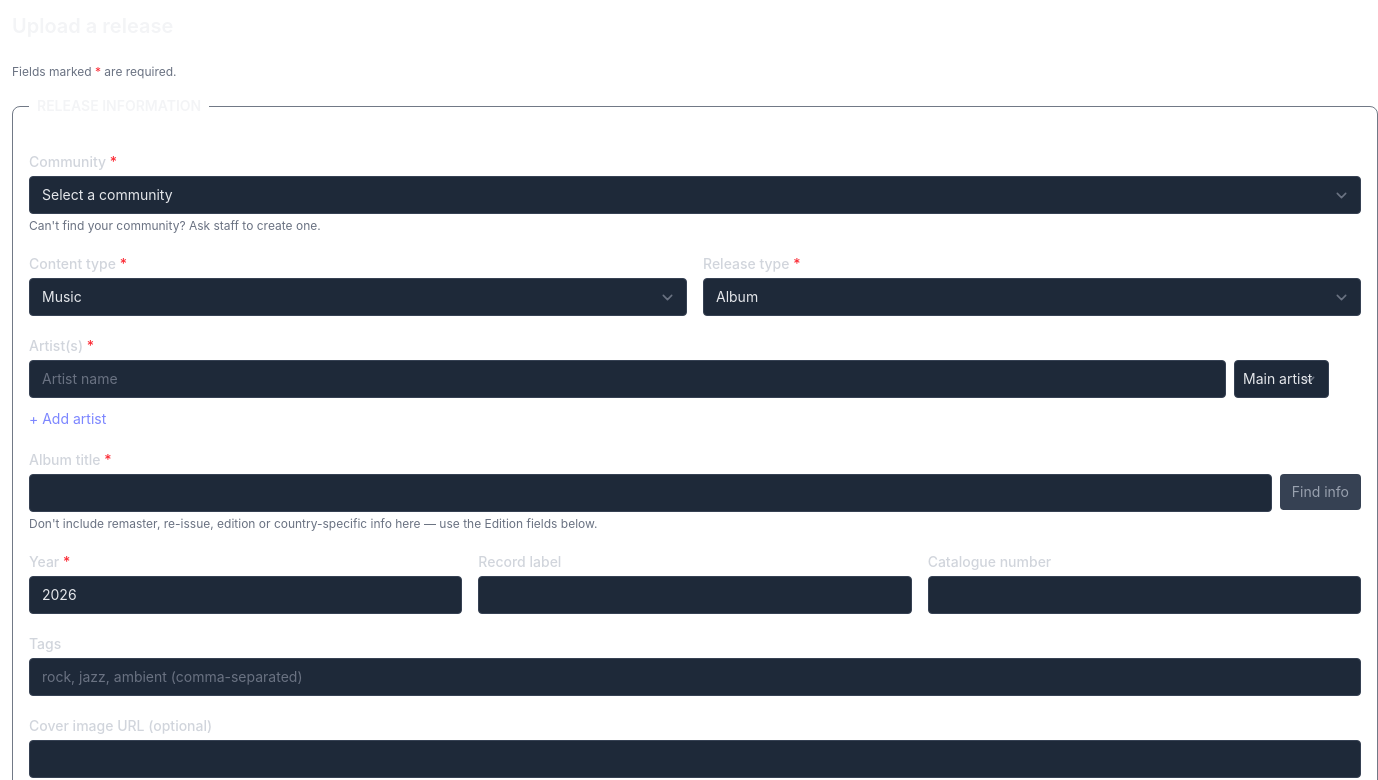
it: ContributeForm › can remove a collaborator row (not the first)
This screenshot has width=1378, height=780.
Step 1. Click the button "+ Add artist" → x=68, y=419, box [29,409,106,429]
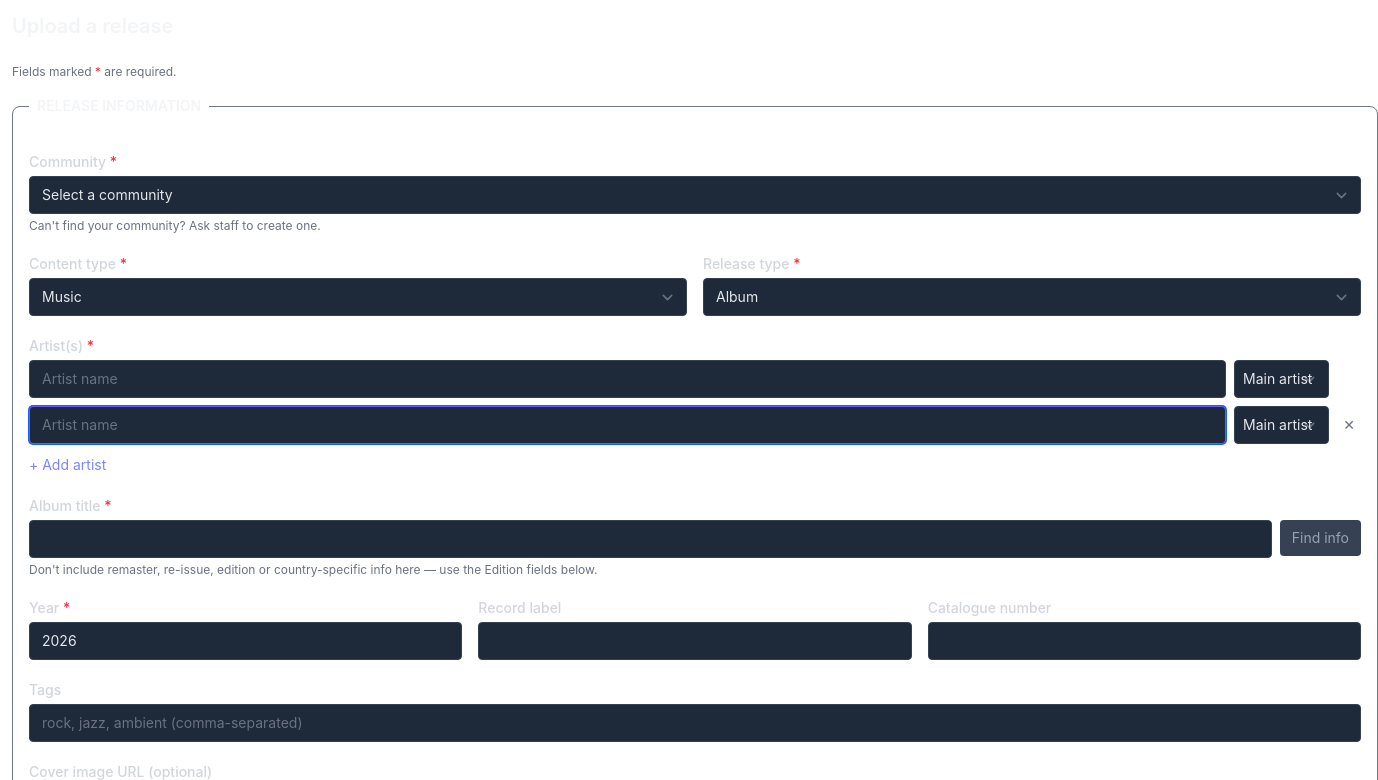
Step 2. Click the button named "remove artist 2" → x=1349, y=425, box [1337,415,1361,435]
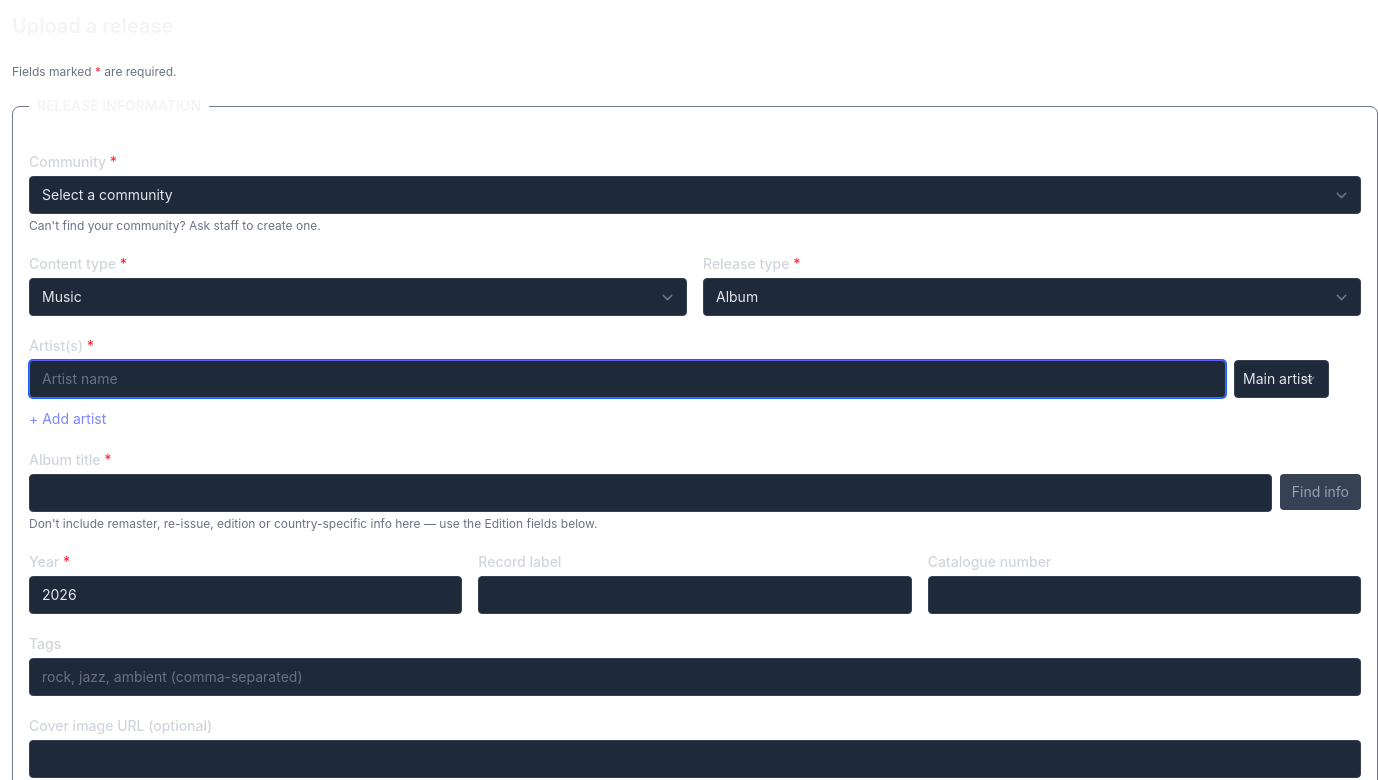
expect the number of fields with placeholder "Artist name" is 1: met, box [29,360,1226,398]
